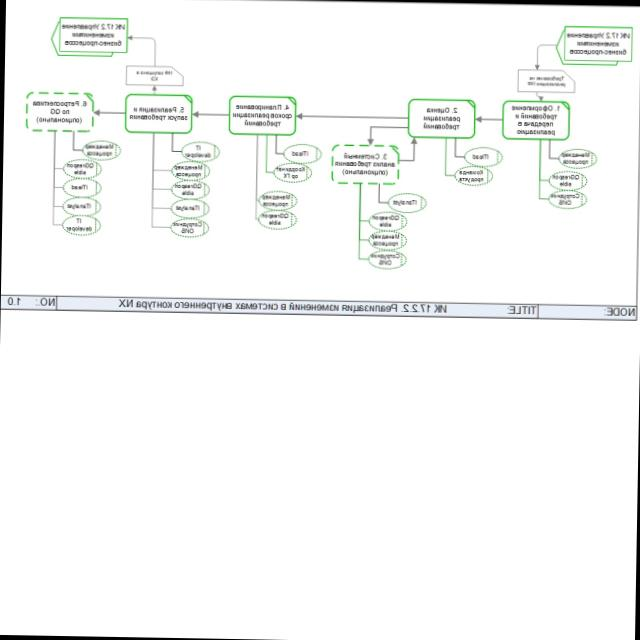arrow: (295, 112, 407, 122), (127, 34, 157, 65), (366, 124, 407, 146), (534, 42, 558, 70), (399, 138, 418, 162), (192, 109, 228, 119), (93, 108, 125, 118), (475, 116, 501, 124), (535, 92, 544, 102), (150, 85, 158, 95)
rectangle: (330, 143, 399, 185), (407, 98, 476, 139), (25, 91, 94, 132), (502, 99, 570, 140), (228, 95, 296, 136), (125, 93, 193, 133), (58, 16, 128, 53), (564, 25, 633, 61), (517, 69, 575, 93), (125, 65, 183, 87)
